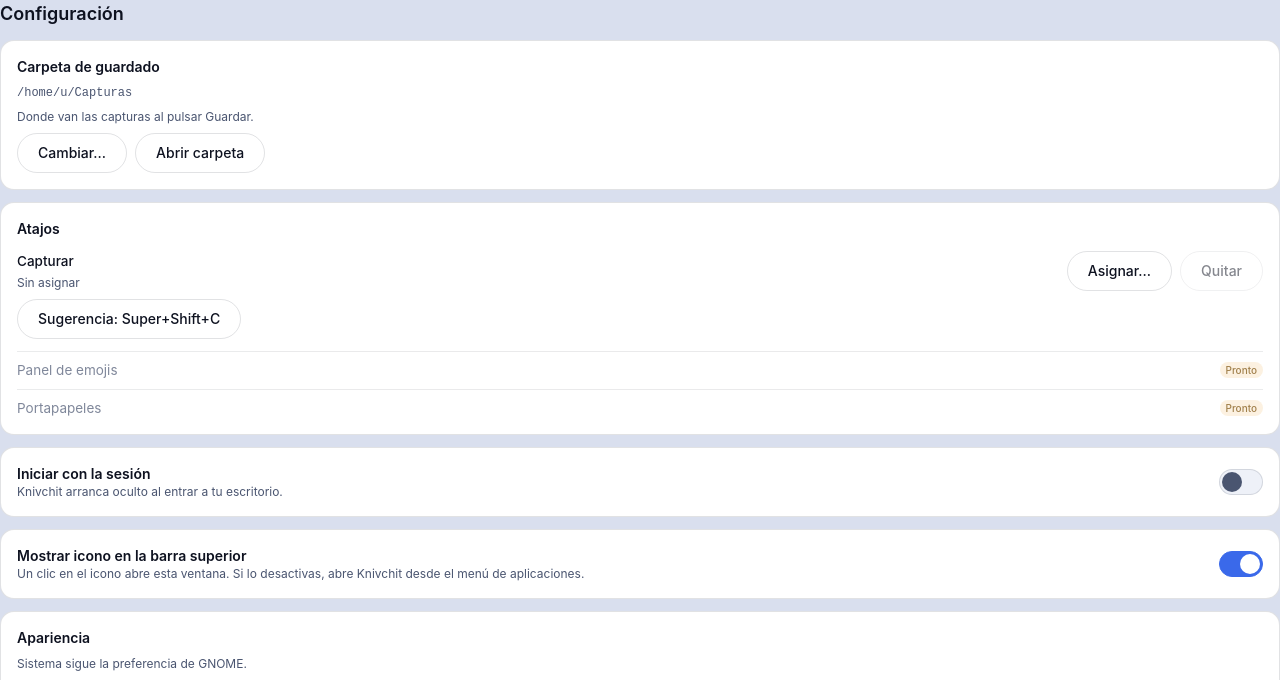
Test: PageSettings — iniciar con la sesión › si el backend no puede escribir, revierte y avisa
This screenshot has width=1280, height=680.
Click the switch named "Iniciar con la sesión" in the row of "Iniciar con la sesión" at (1241, 482), box [1219,469,1263,495]
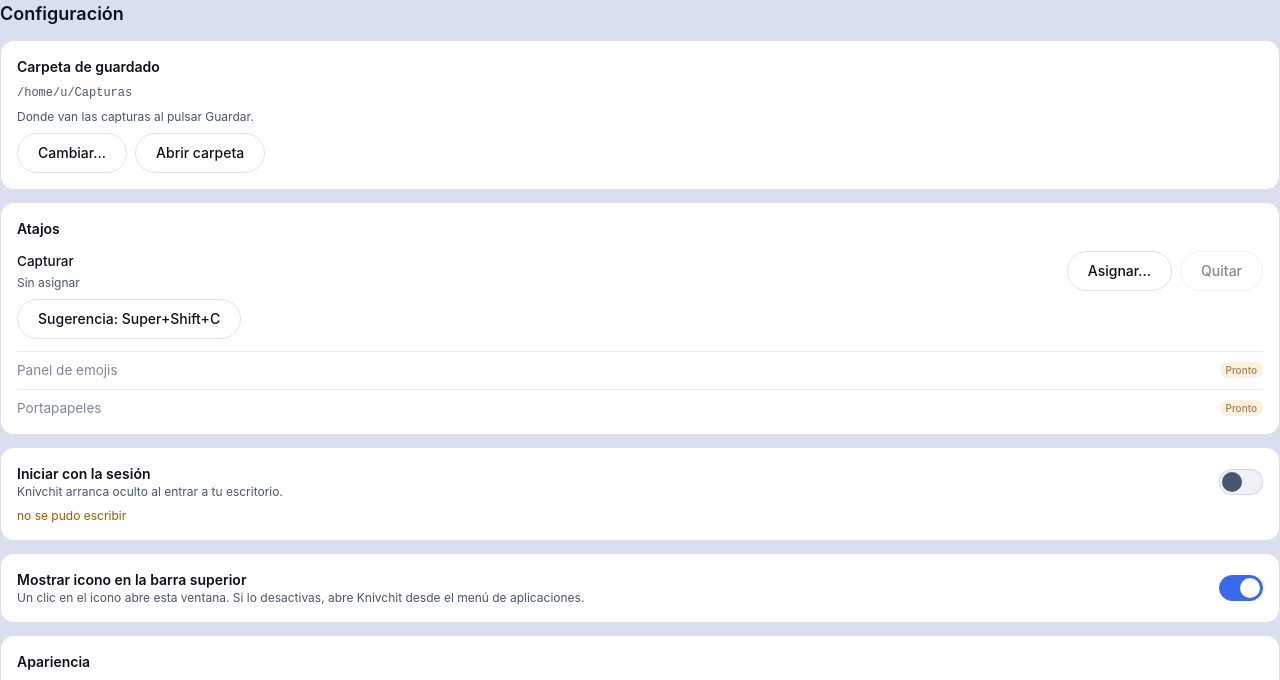
Now the message reads "no se pudo escribir", box [17,508,126,523]
